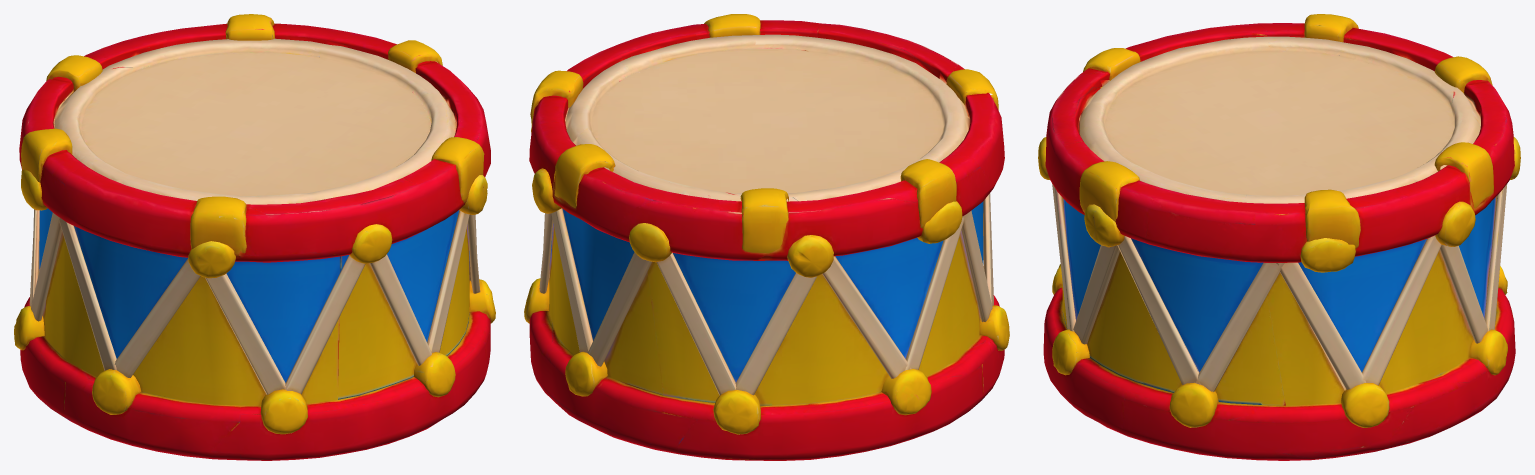
The model's file is toy_drum.glb.
3 views of the same model, side by side, from view 1: azimuth 30°, elevation 25°; view 2: azimuth 150°, elevation 25°; view 3: azimuth 270°, elevation 25° (orthographic).
Size of what is drawn, in the model's own units: 1.66 by 1 by 1.67.
Materials: 1 (1 with a texture image).
